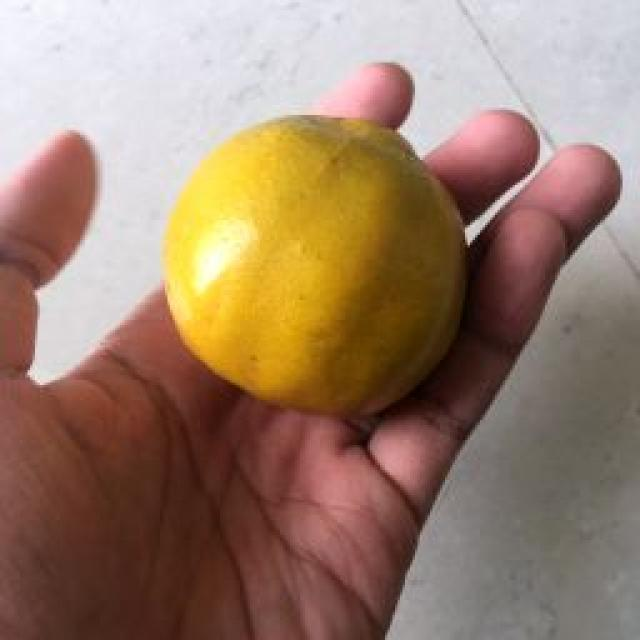Good_Orange: (162, 115, 470, 418)
